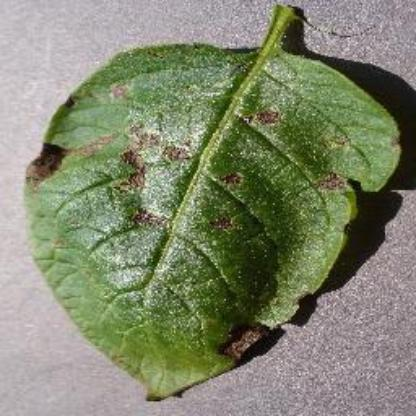Early-Blight: (21, 4, 403, 398)
